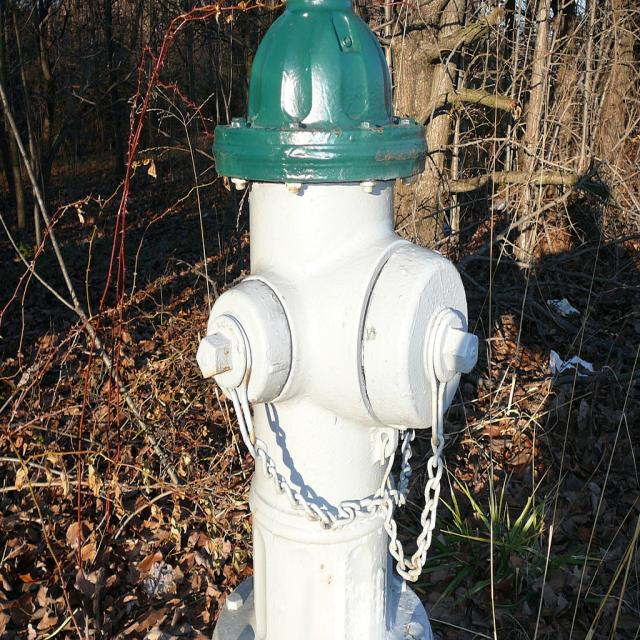fire_hydrant: (195, 0, 480, 639)
